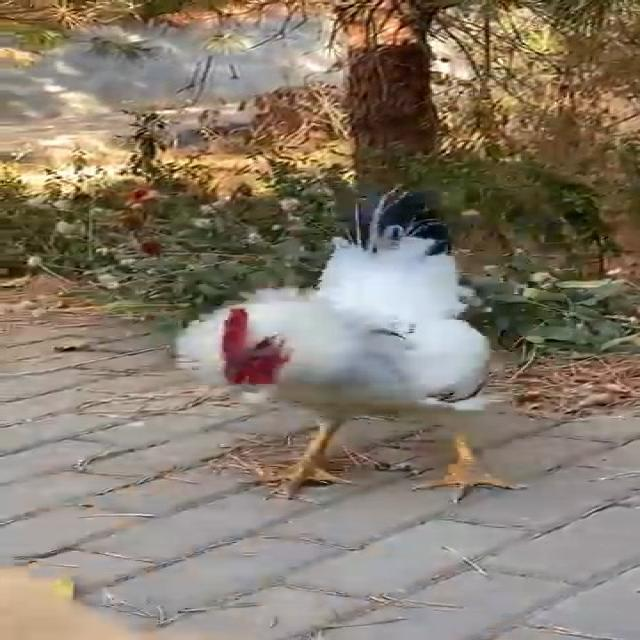walking: (156, 216, 505, 510)
